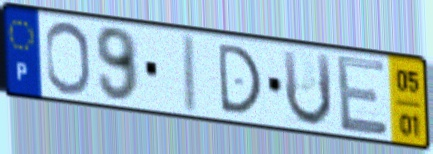9: (94, 25, 143, 105)
D: (215, 41, 265, 116)
E: (334, 52, 391, 139)
I: (181, 31, 201, 118)
O: (43, 19, 94, 98)
U: (280, 47, 335, 130)
